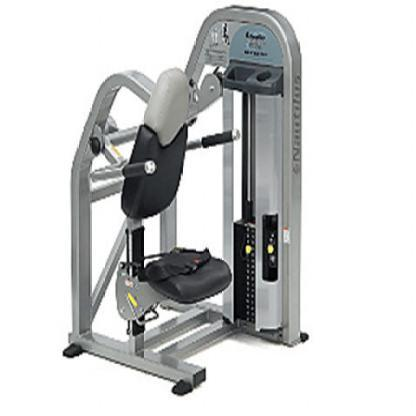seated dip machine: (61, 5, 311, 396)
